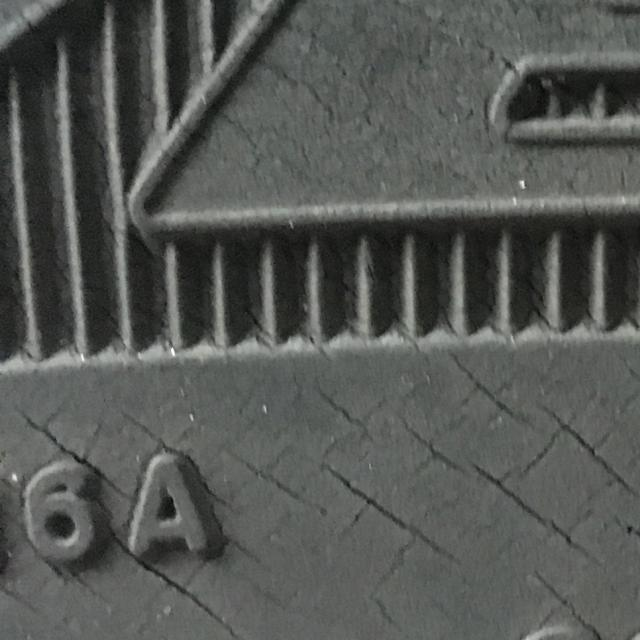Cracks: (0, 338, 640, 640), (187, 2, 640, 216)
